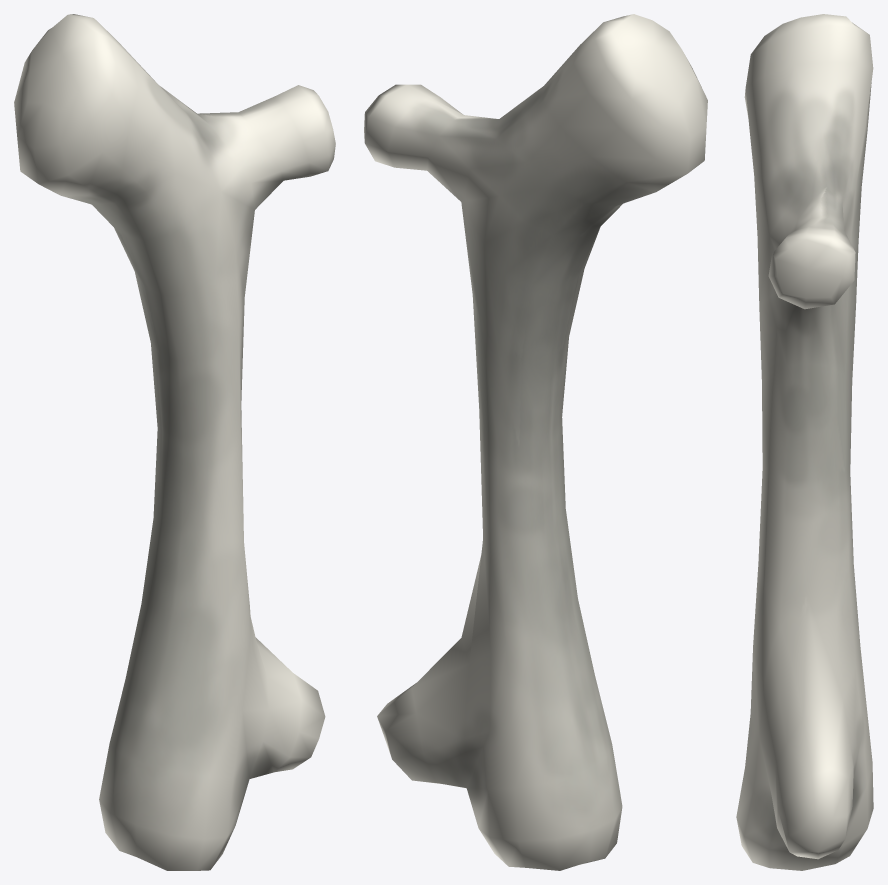
The model's file is bone.fbx.
3 renders of one model, left to right at view 1: azimuth 30°, elevation 25°; view 2: azimuth 150°, elevation 25°; view 3: azimuth 270°, elevation 25°, orthographic. The views are drawn at different scales.
Parts seen in each view (by area): view 1: bone; view 2: bone; view 3: bone.
Boxes of the visible parts, <box> form: bone: <box>14,14,335,870</box>; bone: <box>364,14,707,870</box>; bone: <box>736,14,873,870</box>.
Bounding box in the file's own units: 88.13 × 234 × 35.92.
